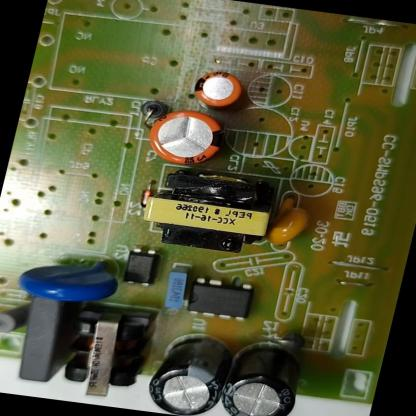Cap1: (136, 100, 235, 173)
Cap2: (185, 66, 253, 116)
Cap3: (136, 330, 239, 416)
Cap4: (212, 336, 315, 416)
MOSFET: (178, 271, 263, 328)
Mov: (10, 245, 133, 311)
Resistor: (0, 295, 42, 339)
Transformer: (131, 160, 282, 261), (48, 295, 163, 405)
